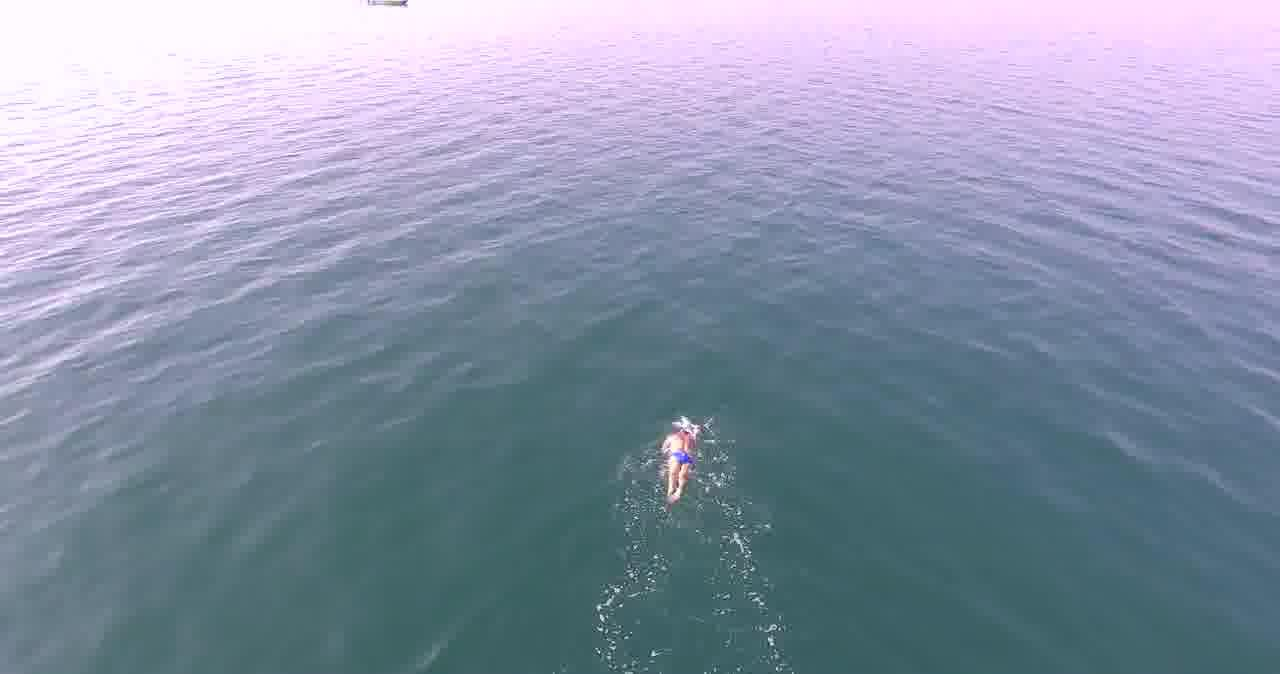swimmer: (657, 417, 696, 510)
